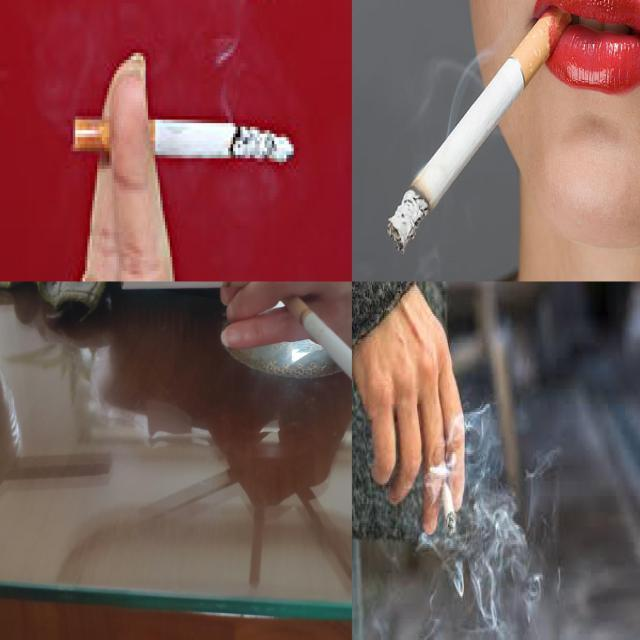smoking: (386, 8, 590, 252), (73, 117, 295, 164), (281, 288, 352, 401), (120, 282, 277, 290), (440, 474, 456, 538)
